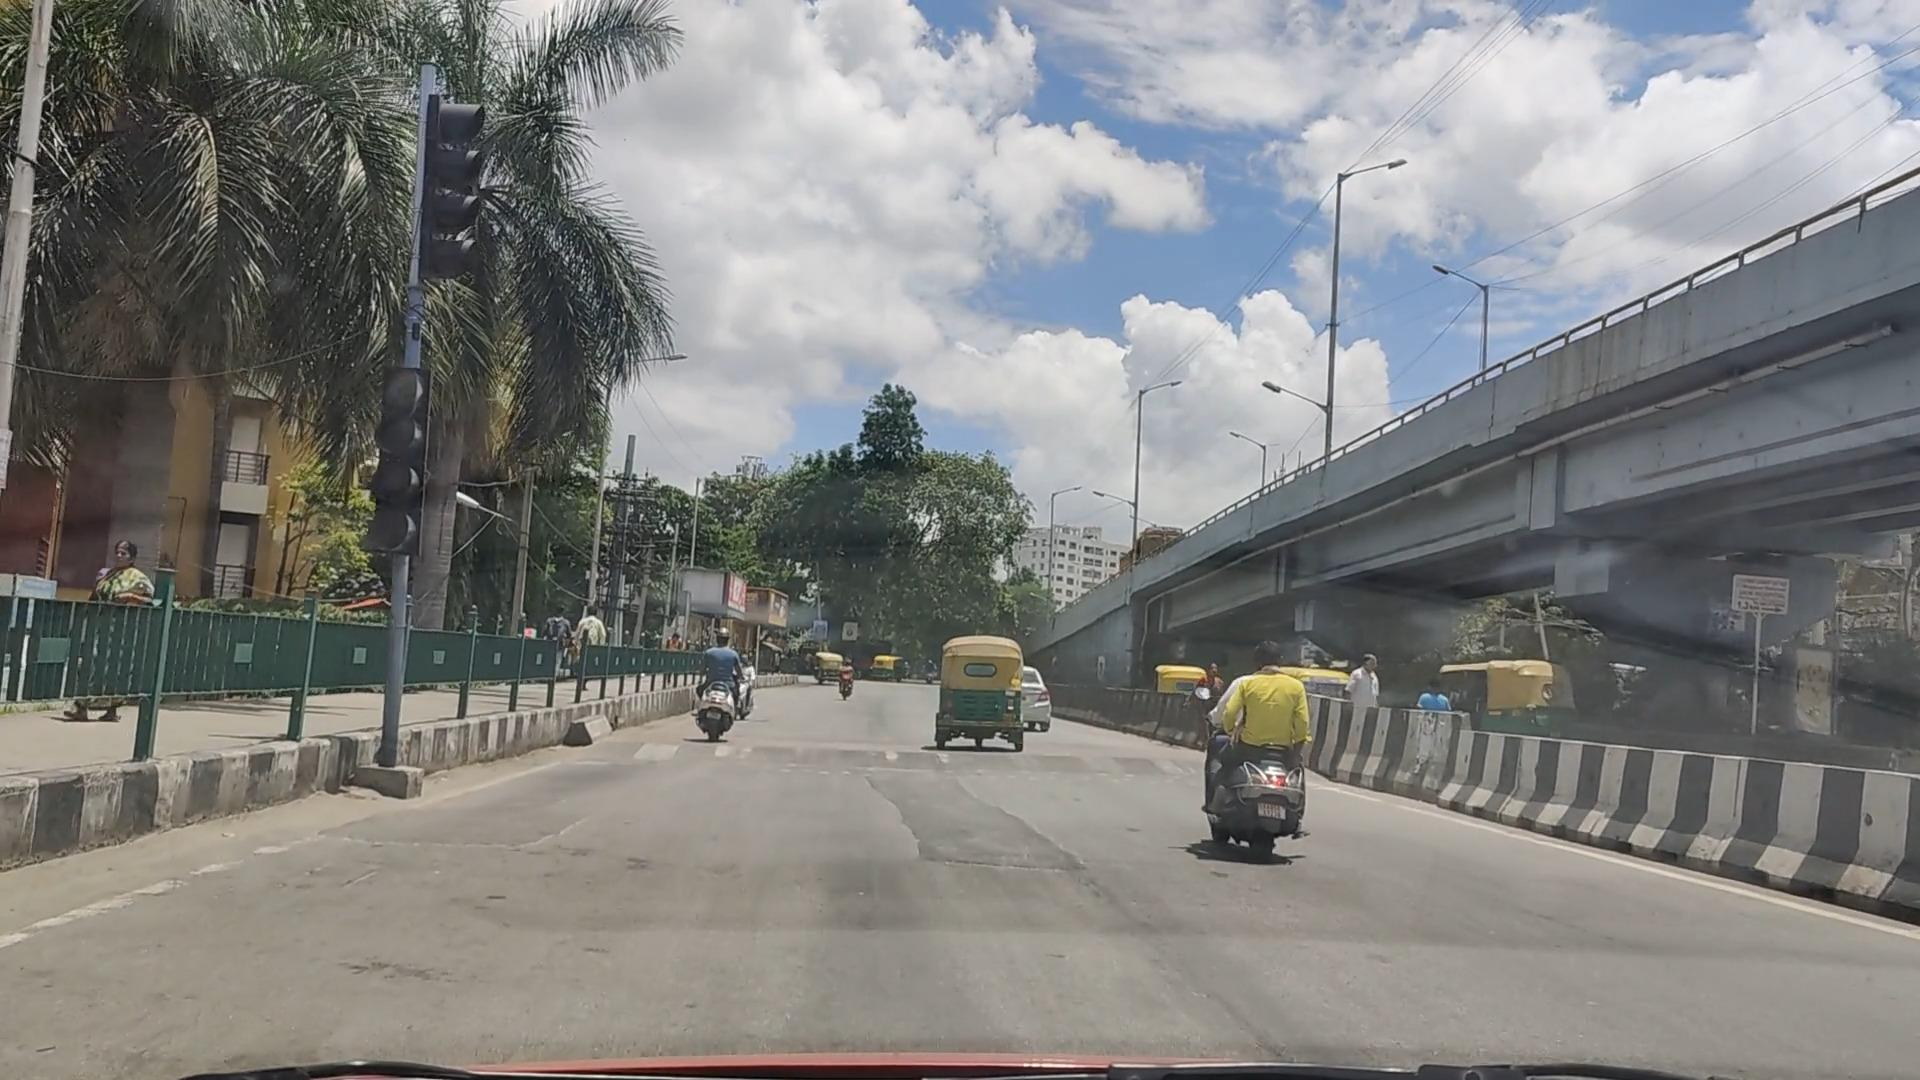LMV: (1212, 644, 1308, 858), (935, 633, 1022, 757), (711, 632, 746, 740)
SpeedBump: (621, 731, 918, 760), (1025, 741, 1238, 770)
